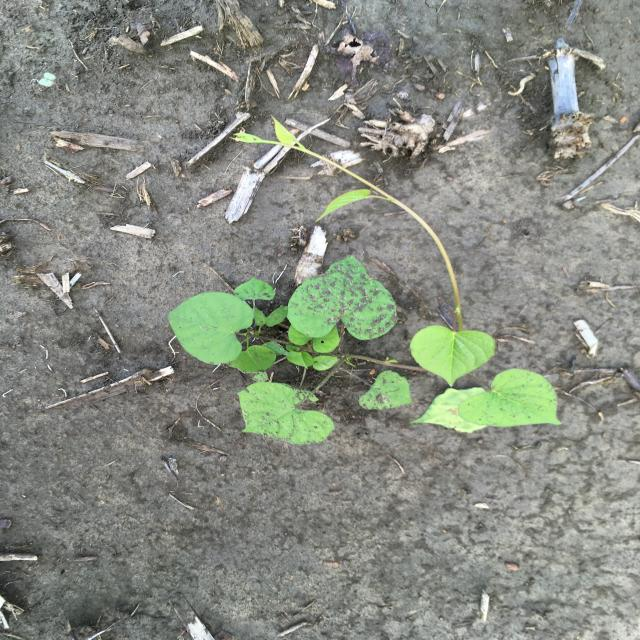MorningGlory: (164, 114, 568, 447)
